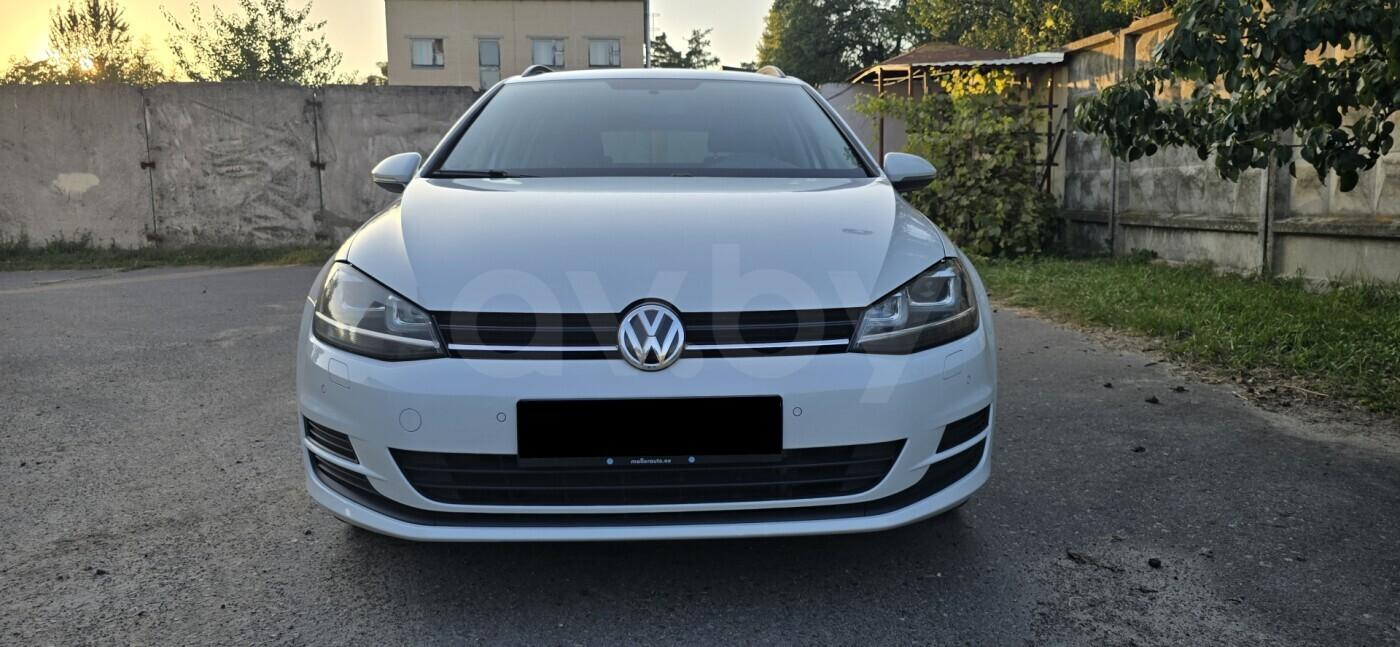Golf_2012-2017: (298, 62, 1000, 547)
